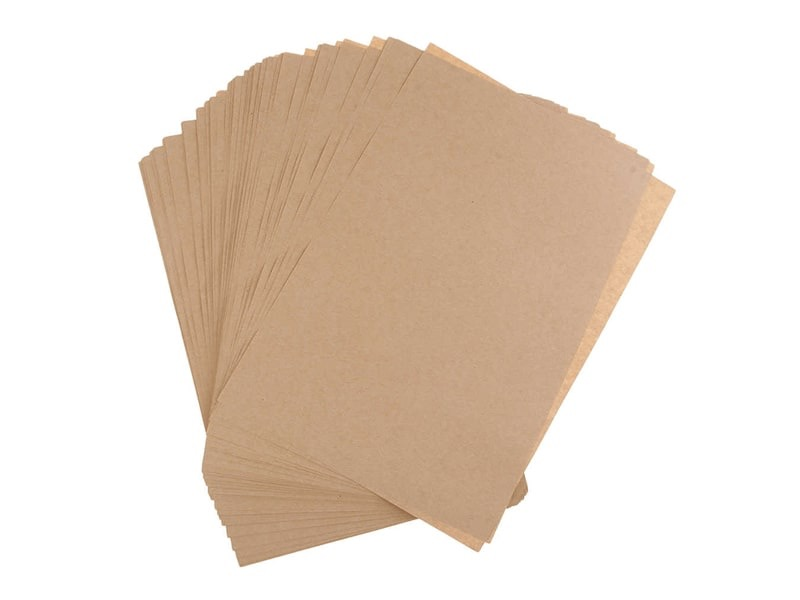paper: (136, 34, 677, 568)
